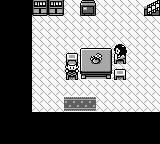leer: (80, 0, 96, 16)
main: (64, 60, 79, 77)
no-caminable: (0, 0, 159, 143), (80, 49, 112, 79), (33, 0, 64, 16)
npc: (113, 44, 127, 60)
puerta: (61, 95, 98, 112), (144, 0, 159, 16)
